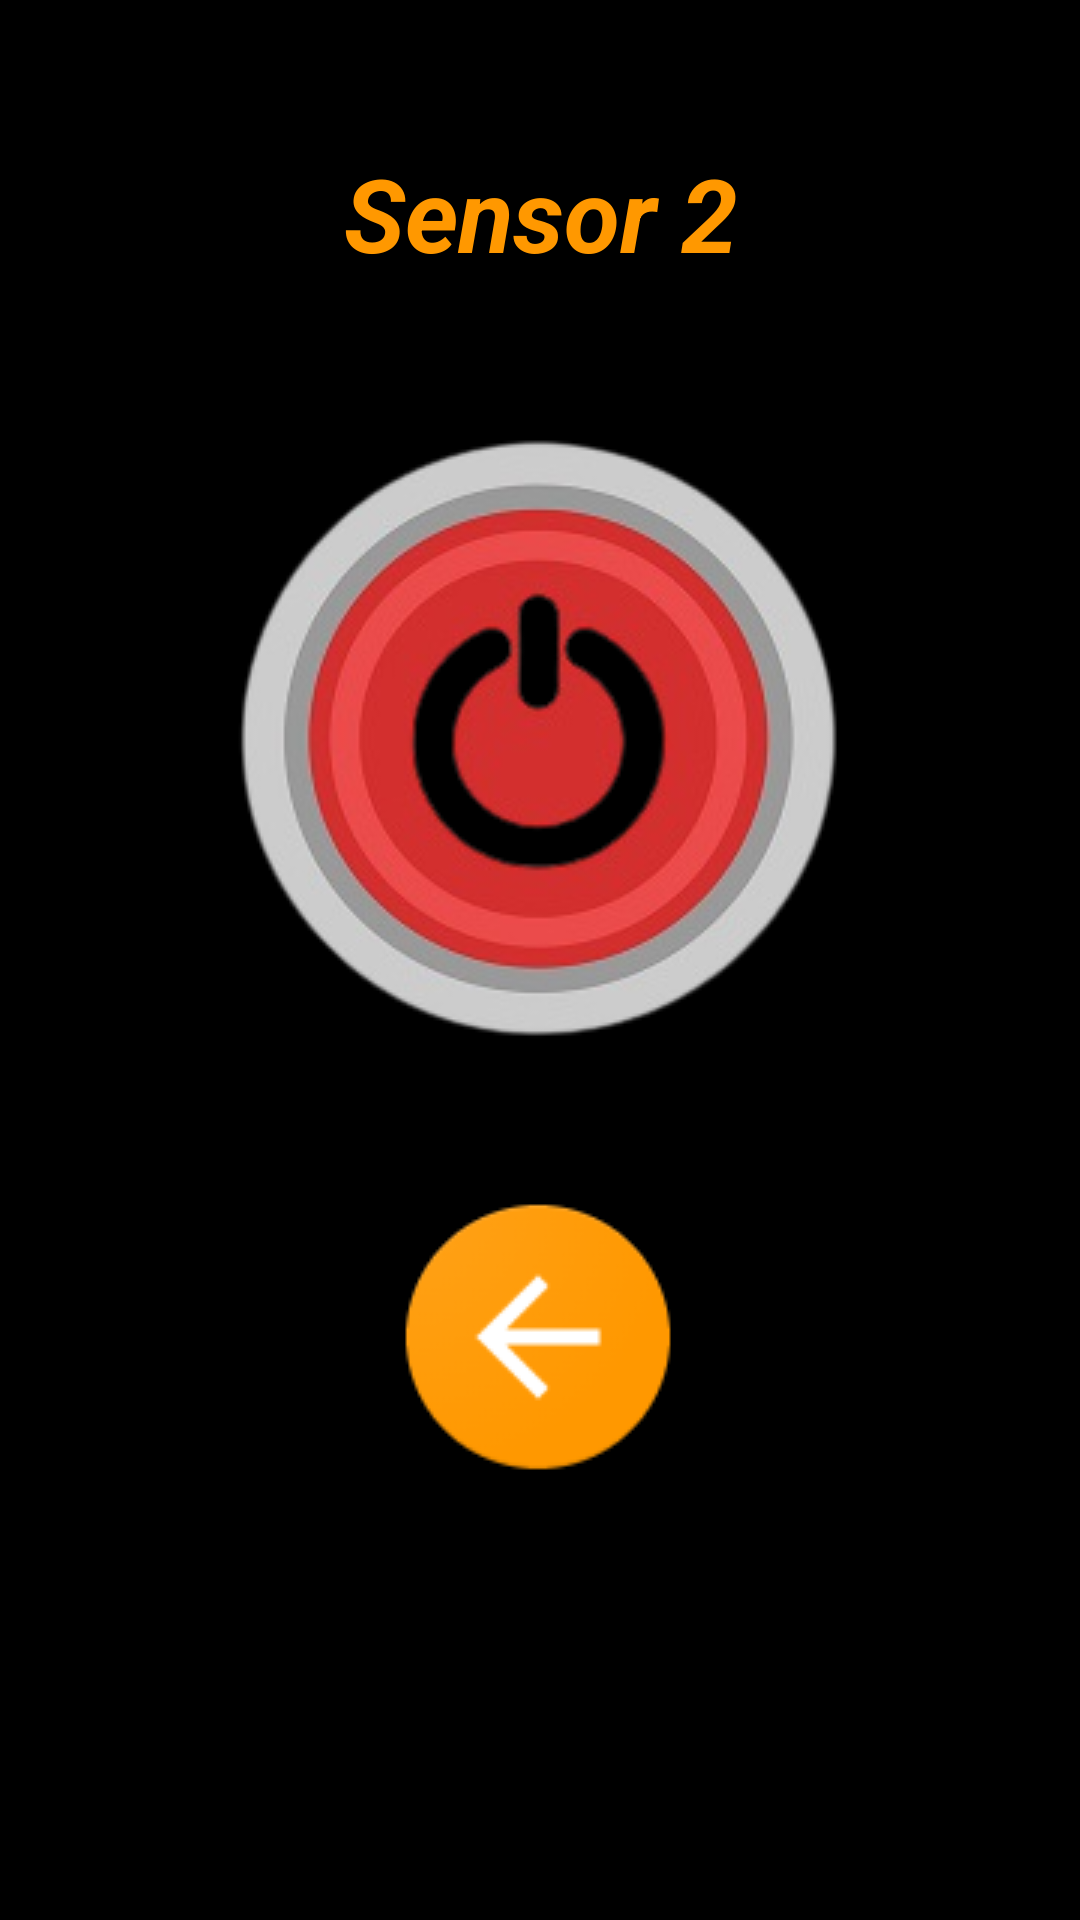

Named icons in this screenshot (1080 × 1920) and their centers, point (x, y):
ret: point (538, 1337)
